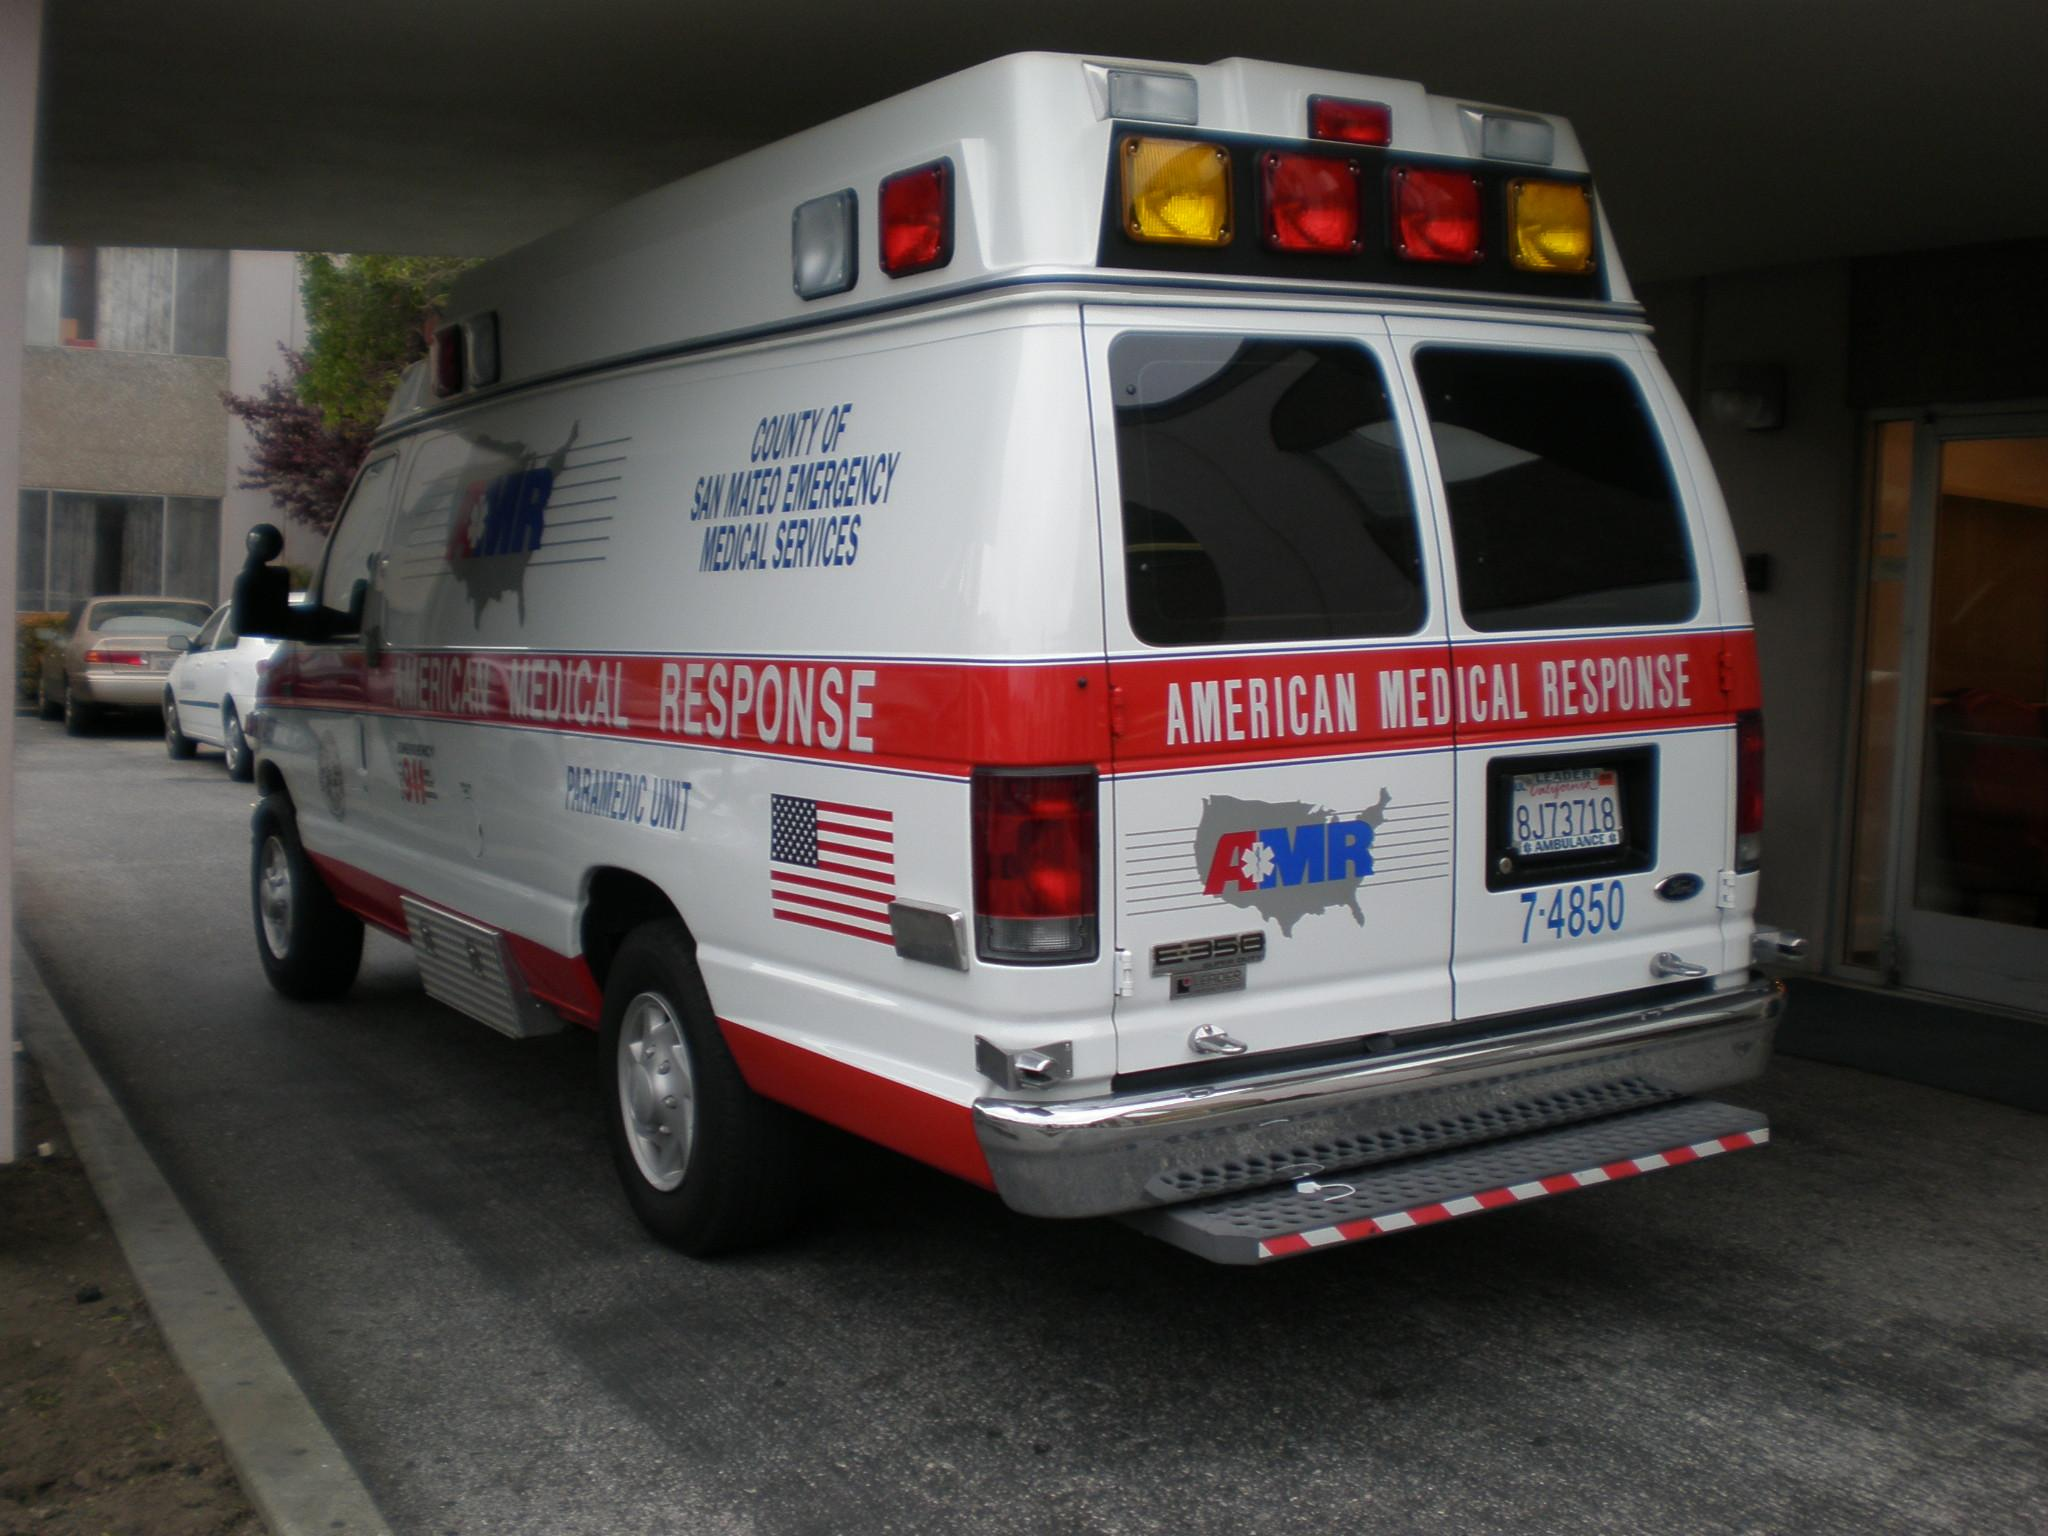ambulance_off: (226, 42, 1785, 1283)
